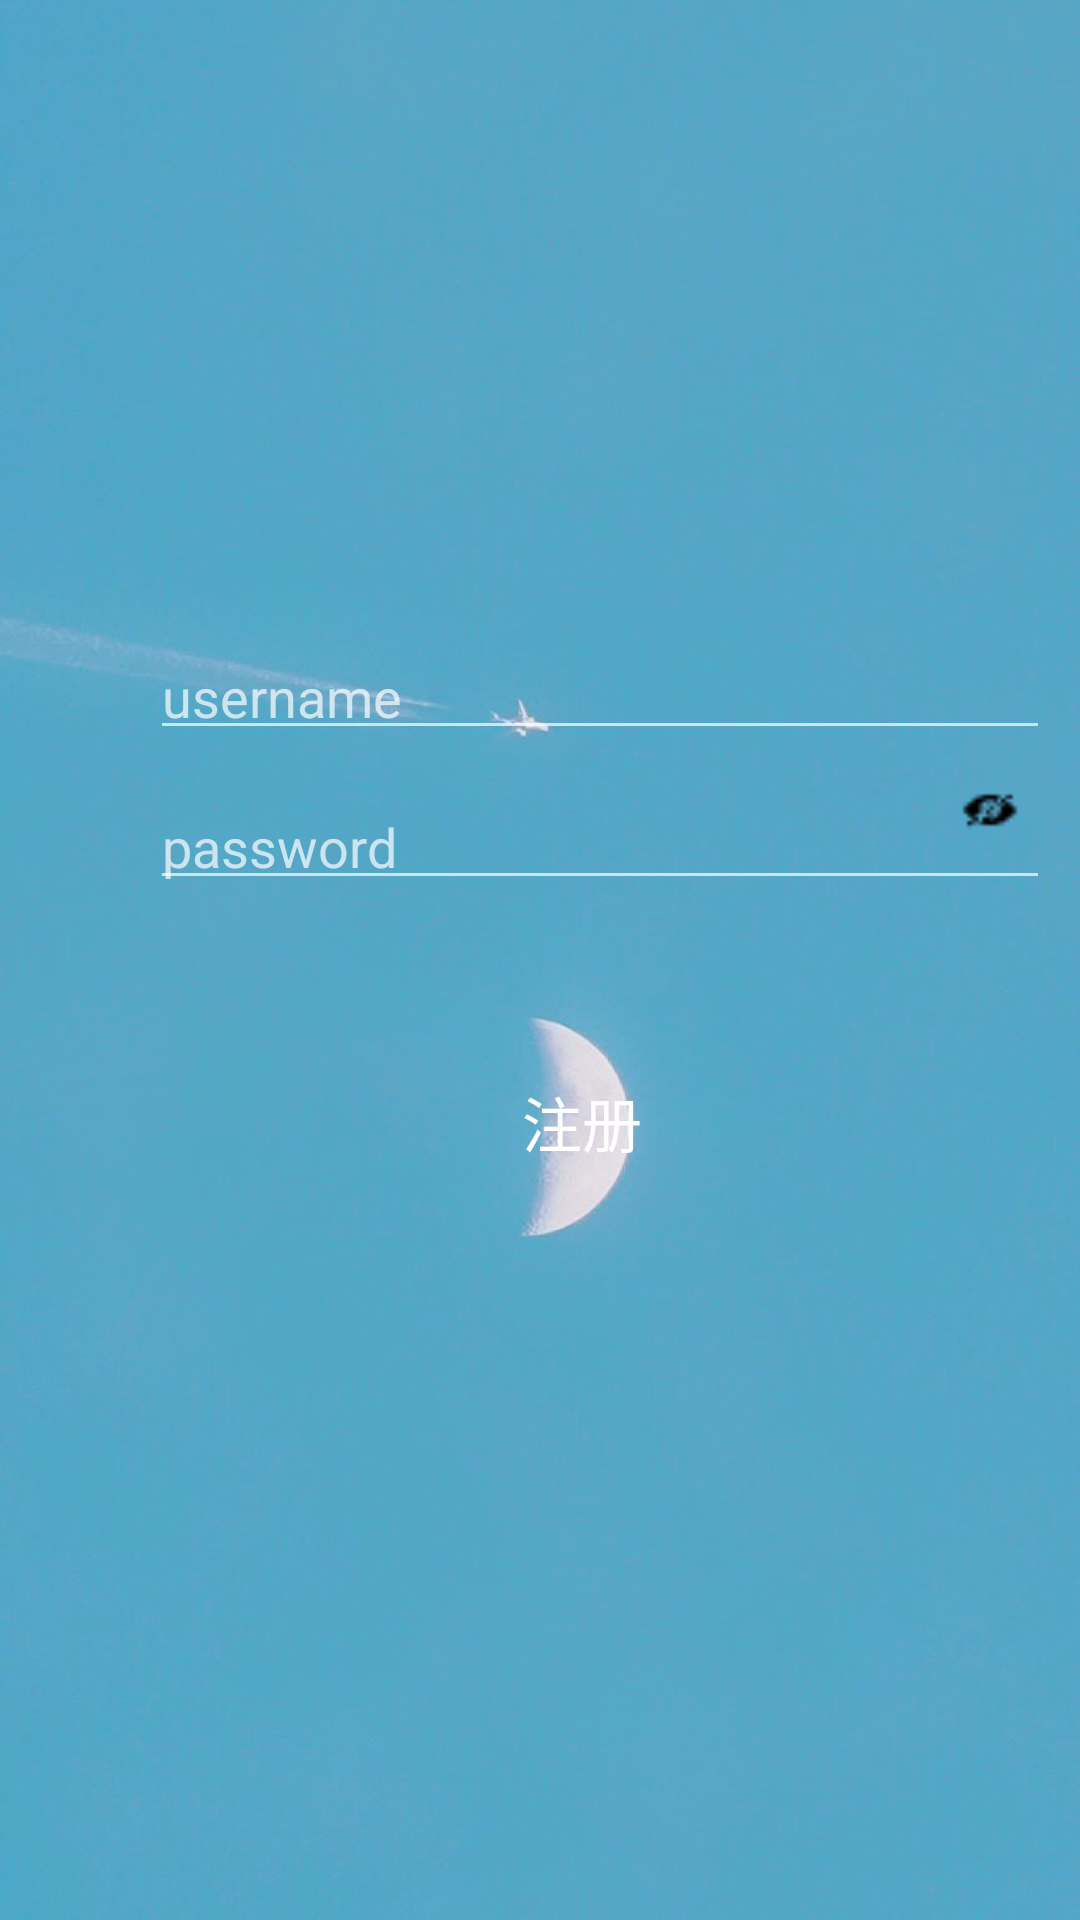

Screen size 1080 × 1920. Icon name, then its center in pixels as (x,y):
eye close: (990,810)
